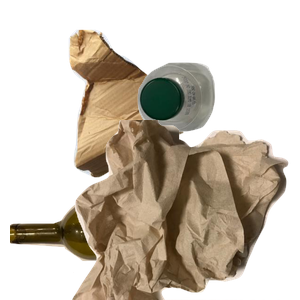cardboard: (66, 27, 242, 197)
glass: (10, 189, 250, 300)
plastic: (135, 60, 300, 184)
trash: (70, 120, 300, 300)
